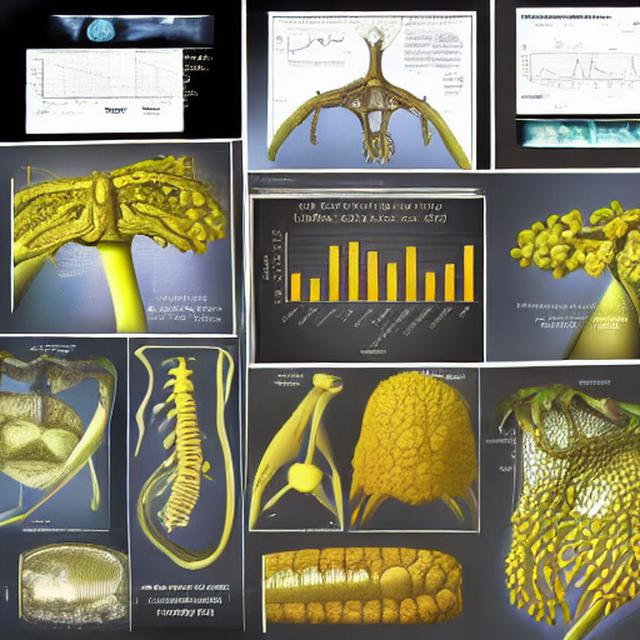Graph: (258, 199, 484, 362), (28, 50, 122, 106), (520, 50, 587, 92), (281, 30, 345, 69)
